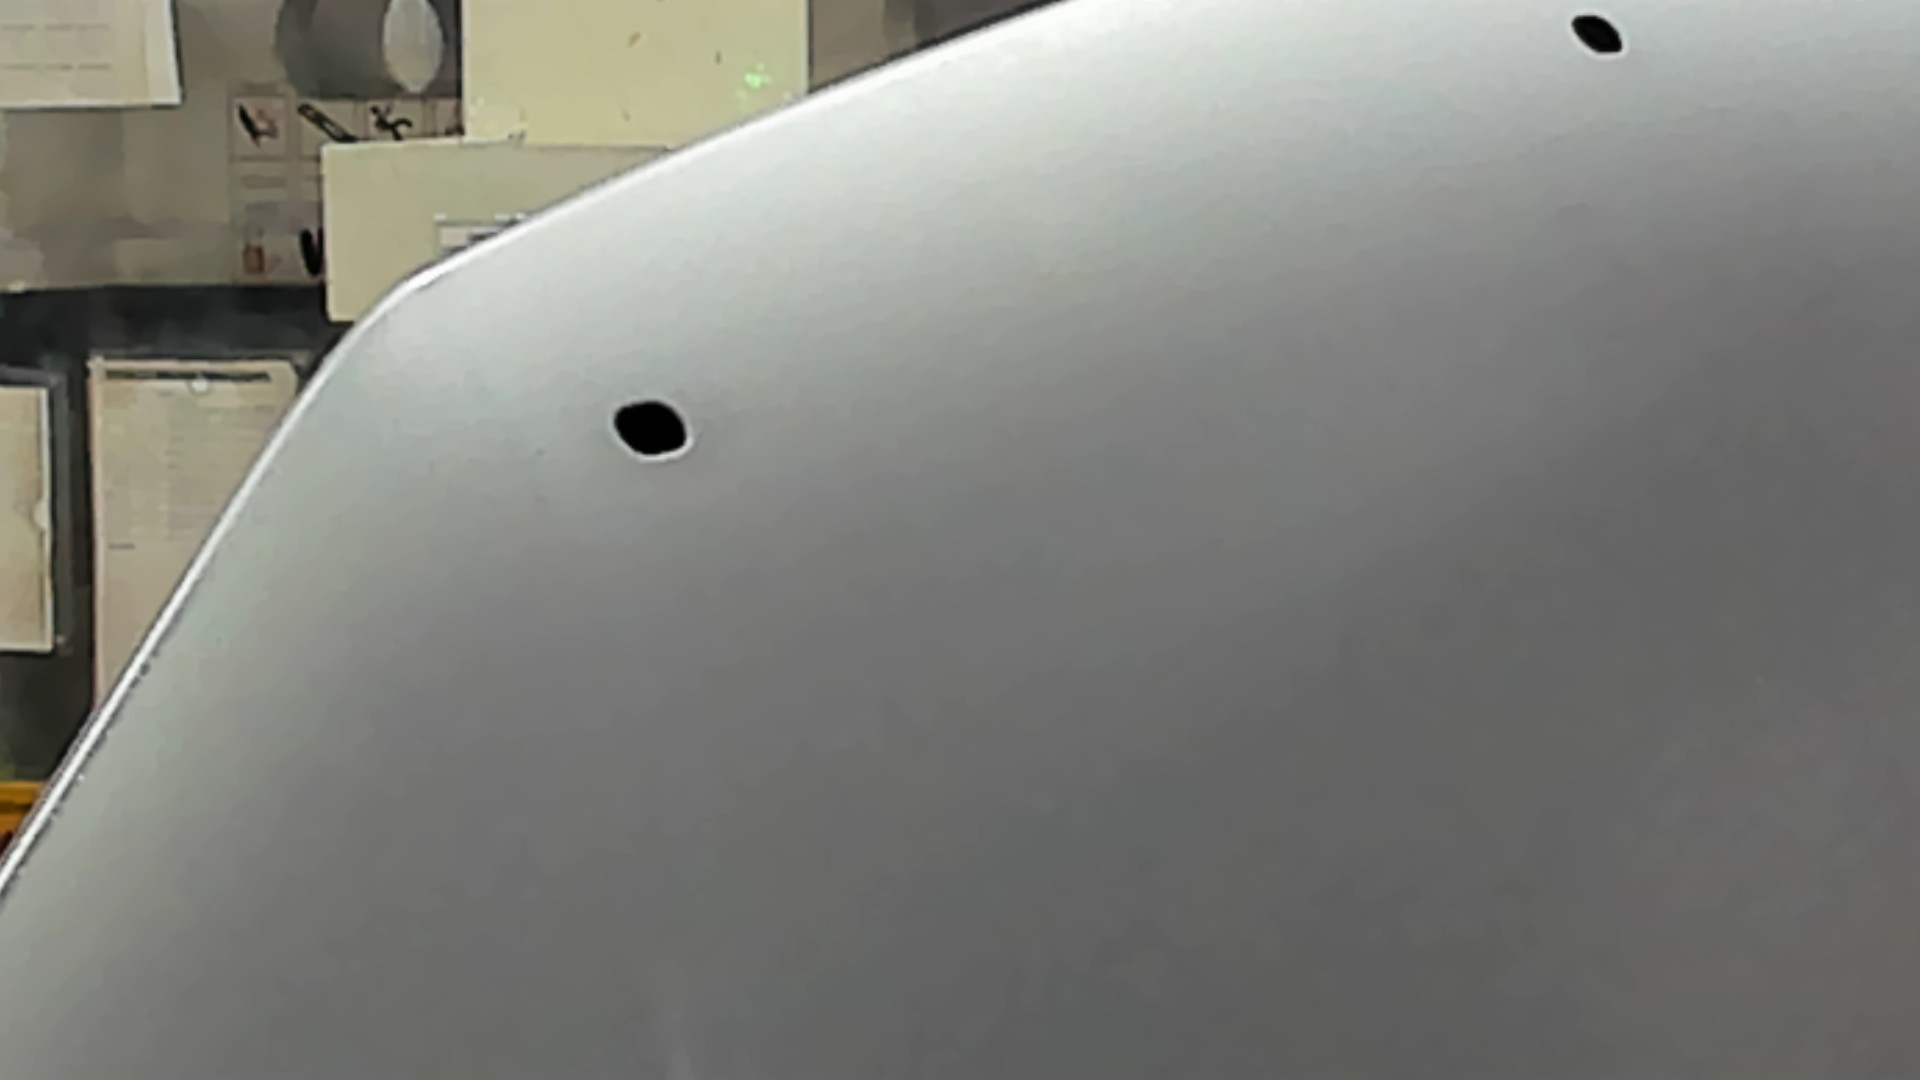chico: (600, 381, 705, 469), (1563, 1, 1634, 67)
